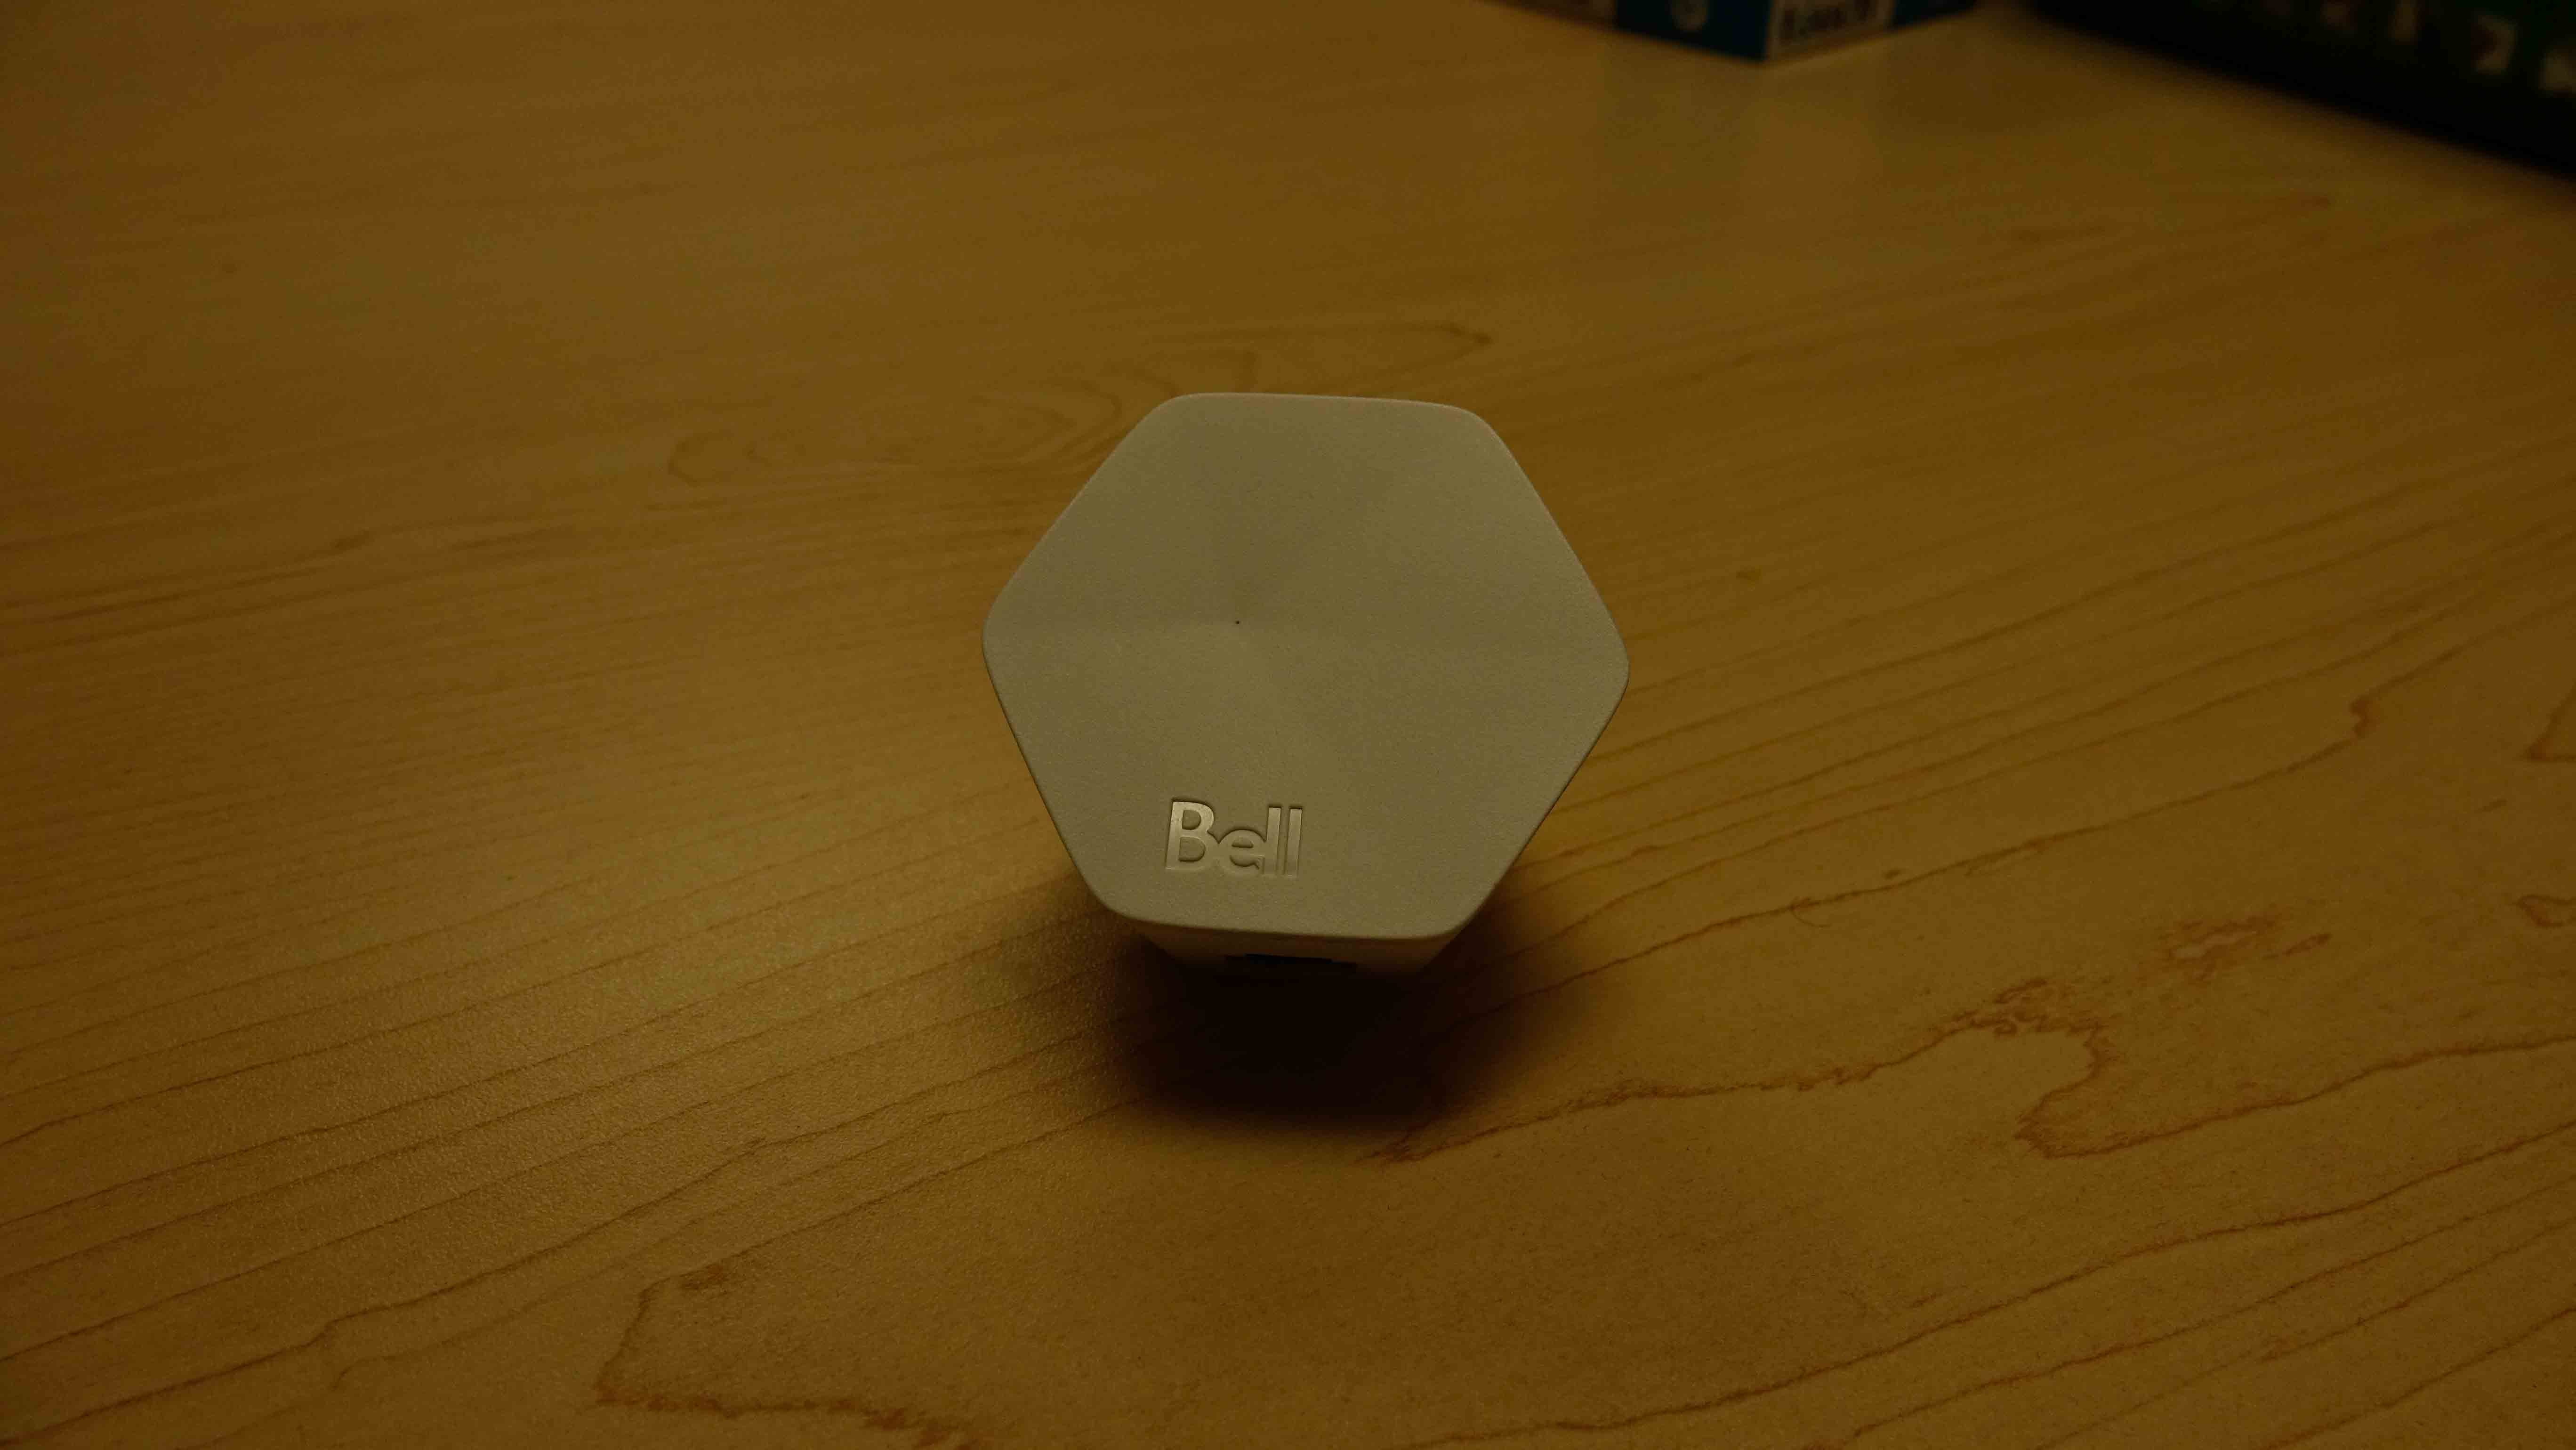pod: (970, 371, 1661, 1013)
